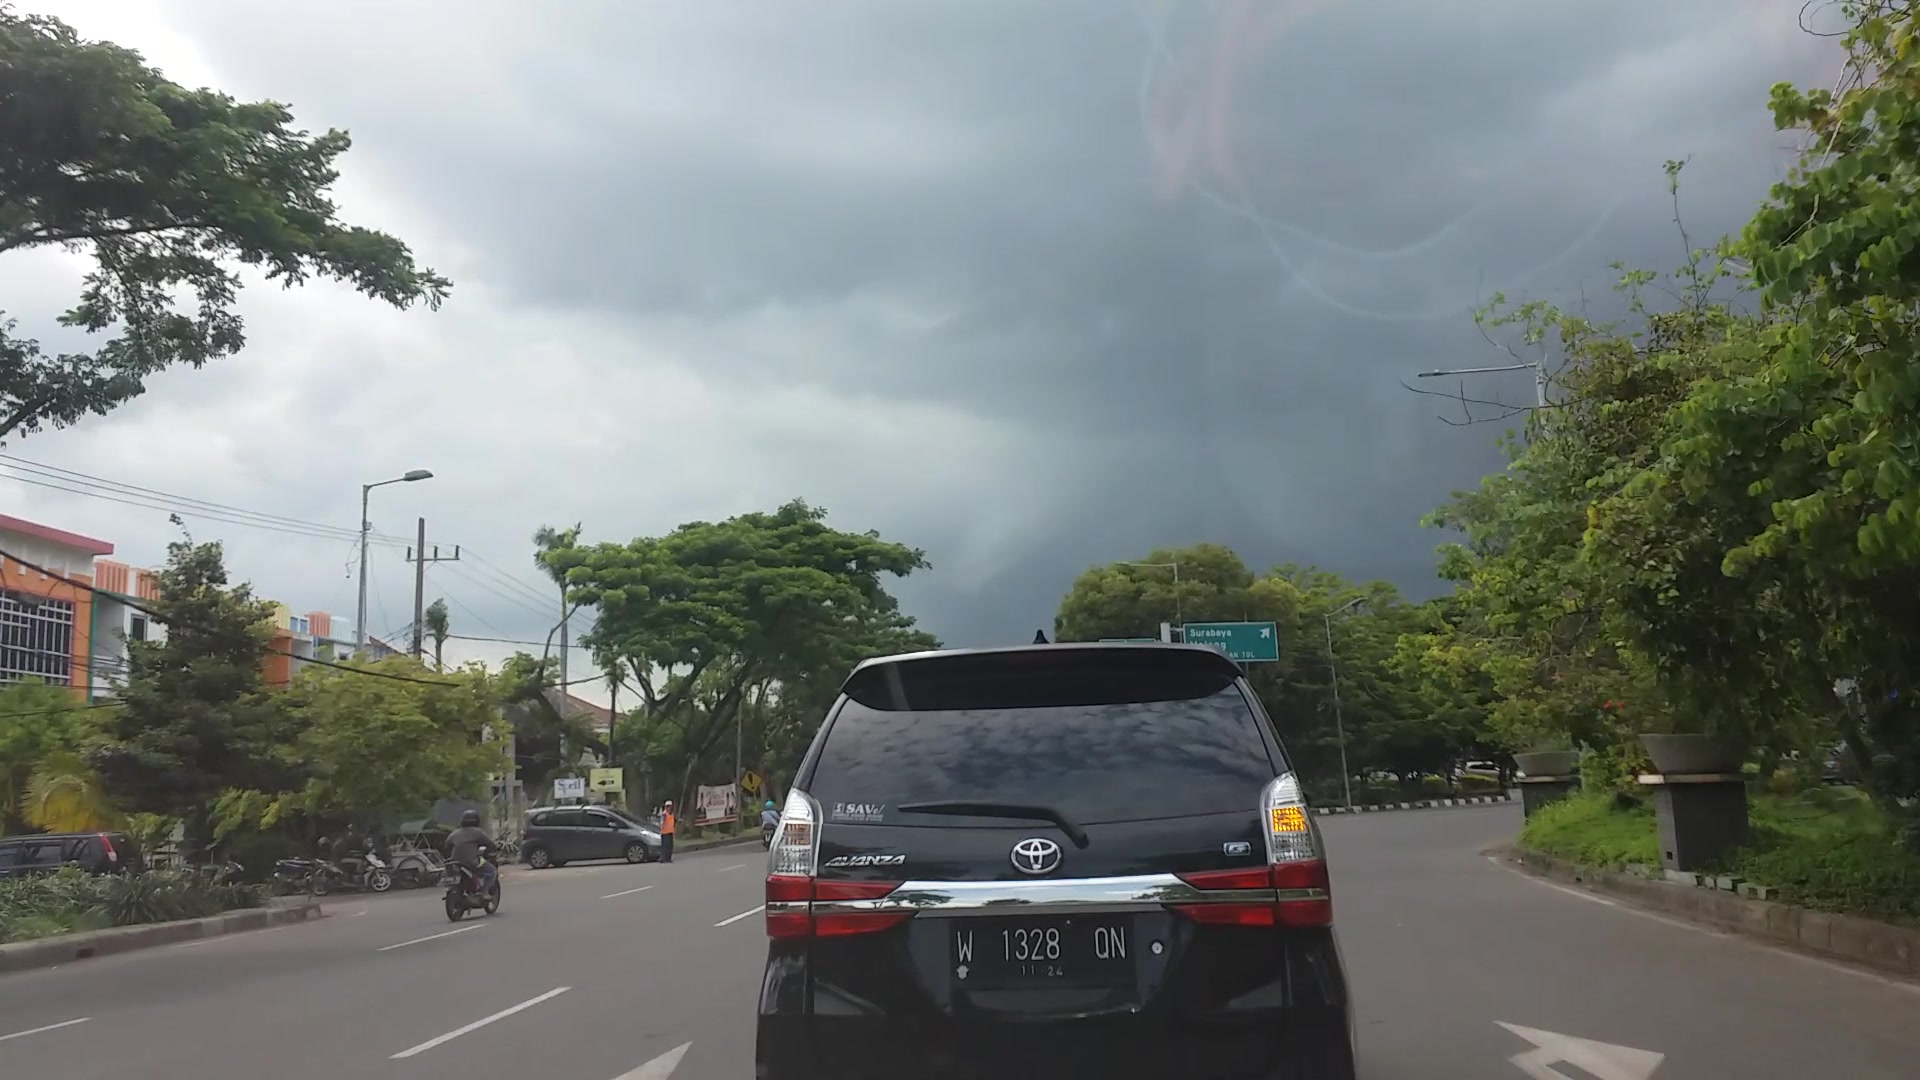plate_positive: (953, 916, 1134, 988)
